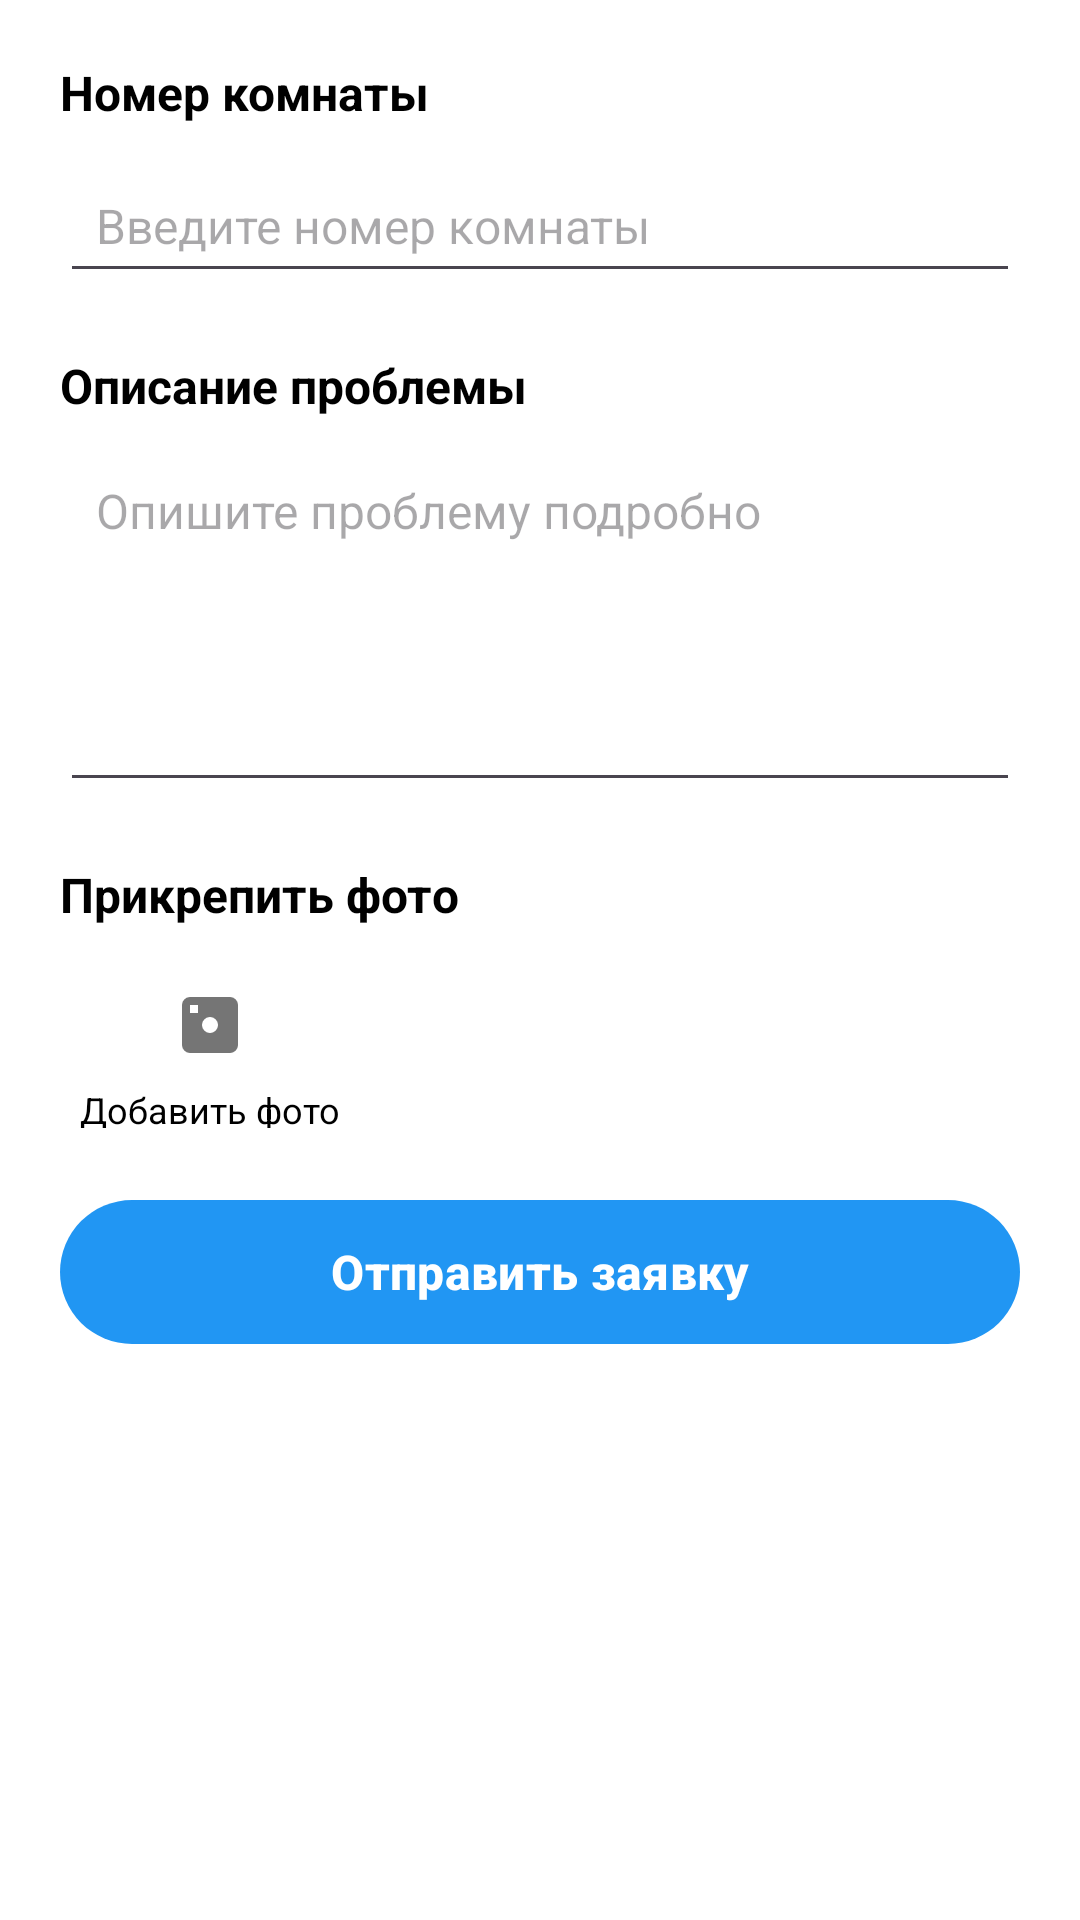

Named icons in this screenshot (1080x1920) and their centers, [x,y]:
camera: [210,1025]
